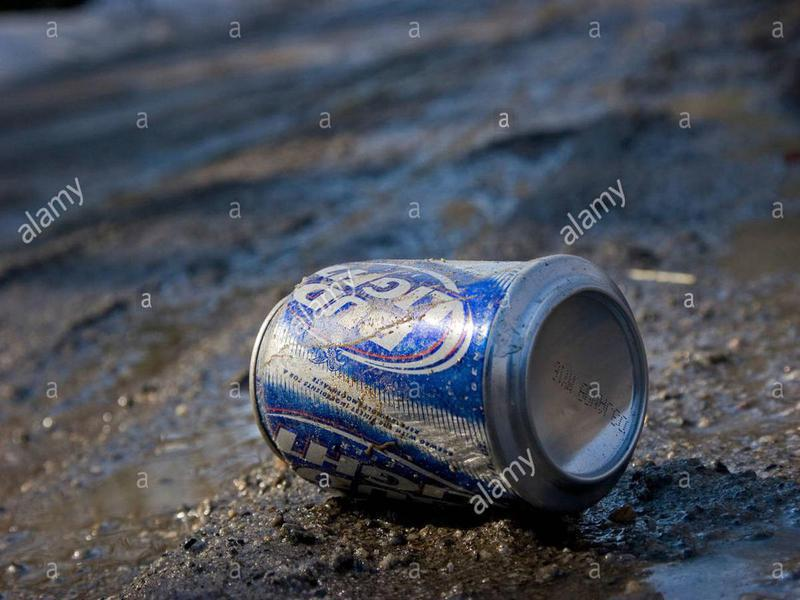can: (245, 250, 651, 522)
